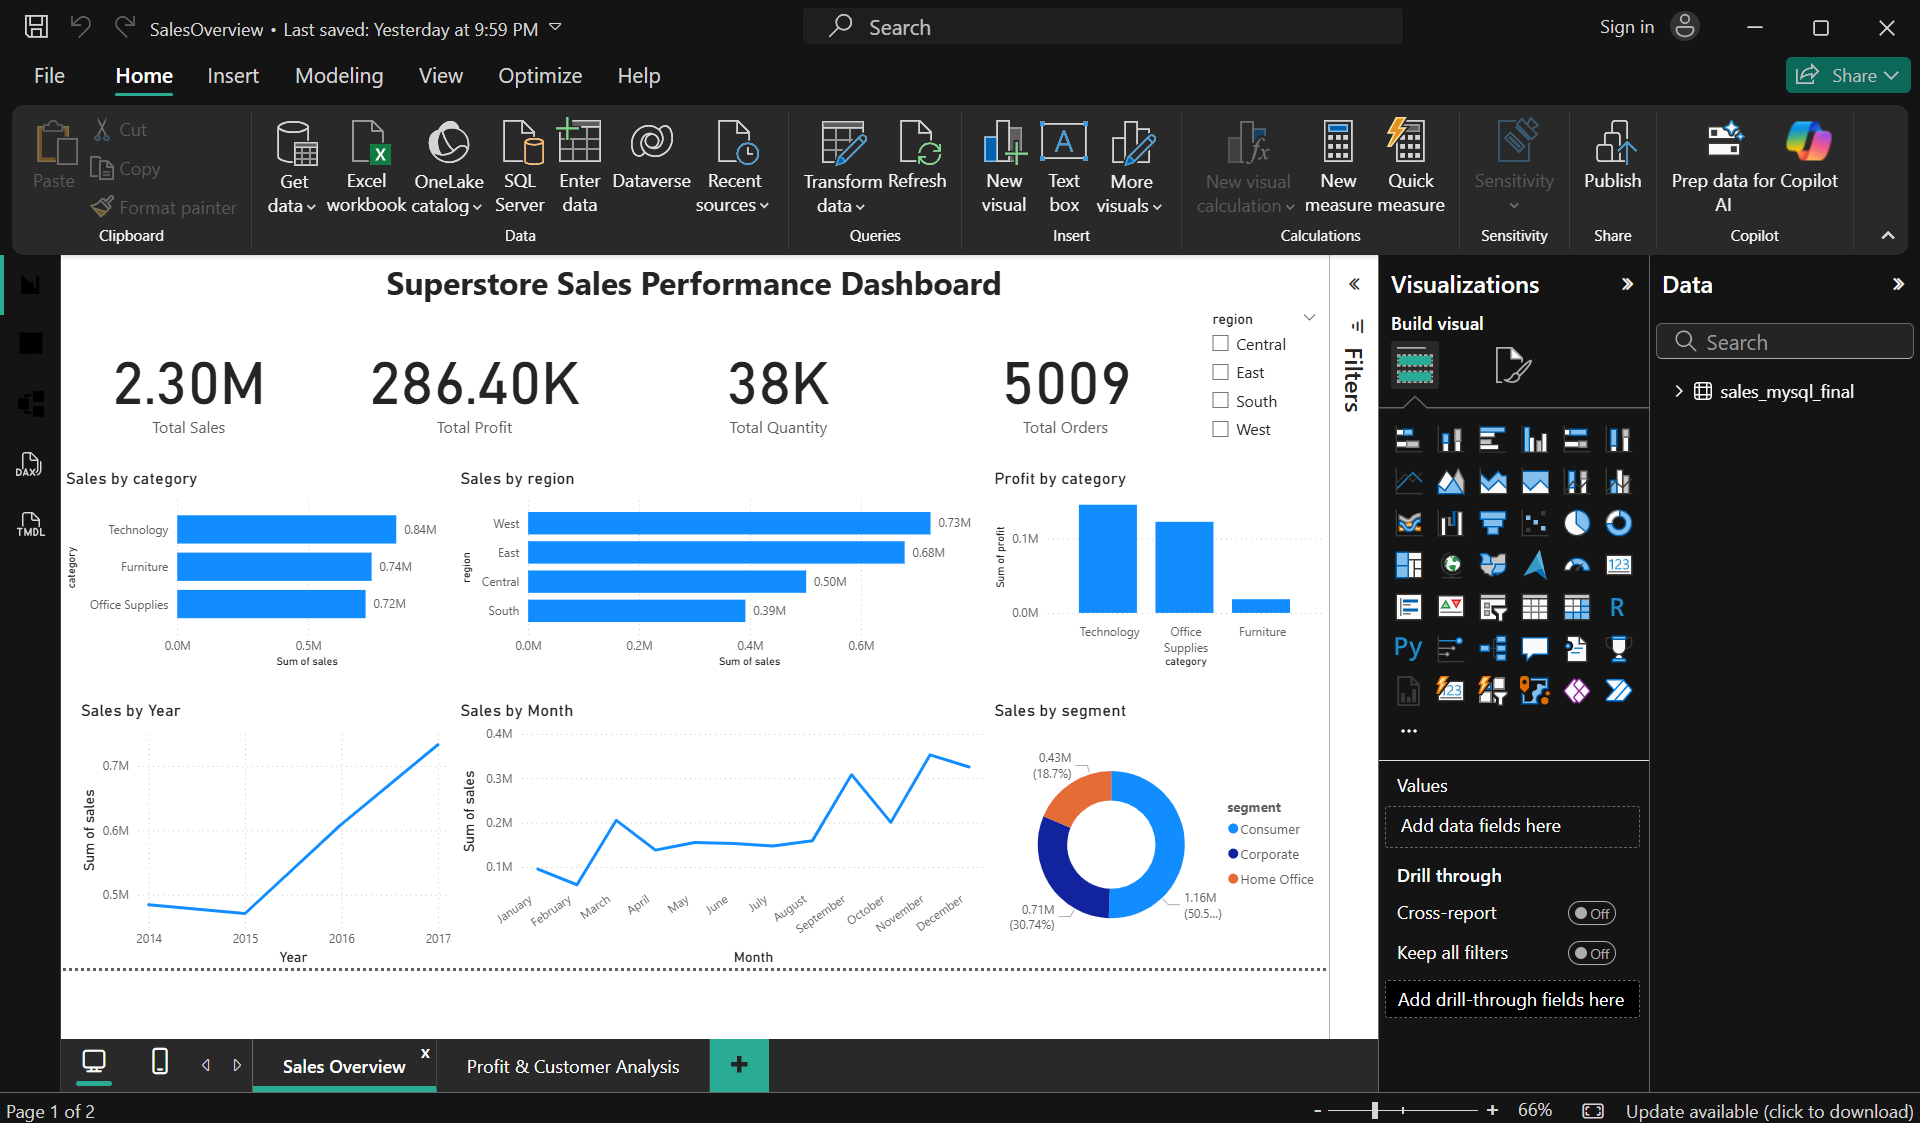

The page's visual inventory and layout, read from the dashboard file:
{"tool":"powerbi","page":{"name":"Sales Overview","canvas":[1280,720],"ordinal":0},"visuals":[{"type":"card","fields":{"Values":["Sum(sales_mysql_final.sales)"]},"box":[0,63.6,257.4,134.8],"z":0},{"type":"card","fields":{"Values":["Sum(sales_mysql_final.profit)"]},"box":[265,63.6,304.4,134.8],"z":1000},{"type":"card","fields":{"Values":["Sum(sales_mysql_final.quantity)"]},"box":[569.3,63.6,308.9,134.8],"z":2000},{"type":"card","fields":{"Values":["Count(sales_mysql_final.order_id)"]},"box":[878.2,63.6,271,134.8],"z":3000},{"type":"clusteredBarChart","title":"Sales by category","fields":{"Category":["sales_mysql_final.category"],"Y":["Sum(sales_mysql_final.sales)"]},"box":[0,215,398.2,205.9],"z":4000},{"type":"clusteredBarChart","title":"Sales by region","fields":{"Category":["sales_mysql_final.region"],"Y":["Sum(sales_mysql_final.sales)"]},"box":[398.2,215,539.1,205.9],"z":5000},{"type":"lineChart","title":"Sales by Year","fields":{"Category":["sales_mysql_final.order_date.Variation.Date Hierarchy.Year","sales_mysql_final.order_date.Variation.Date Hierarchy.Quarter","sales_mysql_final.order_date.Variation.Date Hierarchy.Month","sales_mysql_final.order_date.Variation.Date Hierarchy.Day"],"Y":["Sum(sales_mysql_final.sales)"]},"box":[15.1,449.7,383.1,271],"z":6000},{"type":"lineChart","title":"Sales by Month","fields":{"Y":["Sum(sales_mysql_final.sales)"],"Category":["sales_mysql_final.order_date.Variation.Date Hierarchy.Year","sales_mysql_final.order_date.Variation.Date Hierarchy.Quarter","sales_mysql_final.order_date.Variation.Date Hierarchy.Month","sales_mysql_final.order_date.Variation.Date Hierarchy.Day"]},"box":[398.2,449.7,539.1,271],"z":7000},{"type":"donutChart","title":"Sales by segment","fields":{"Category":["sales_mysql_final.segment"],"Y":["Sum(sales_mysql_final.sales)"]},"box":[937.3,449.7,342.2,271],"z":8000},{"type":"clusteredColumnChart","title":"Profit by category","fields":{"Category":["sales_mysql_final.category"],"Y":["Sum(sales_mysql_final.profit)"]},"box":[937.3,215,342.2,205.9],"z":9000},{"type":"textbox","box":[0,0,1278,80.3],"z":10000},{"type":"slicer","fields":{"Values":["sales_mysql_final.region"]},"box":[1150,51.8,130.1,146.9],"z":11000}]}

Visuals, with their boxes on the page's 1280x720 design canvas (x1, y1, x2, y2). These are canvas units, not pixel positions in the 1920x1123 screenshot, which may show the page scaled, cropped or inside an application window:
card - Sum(sales_mysql_final.sales): left=0, top=64, right=257, bottom=198
card - Sum(sales_mysql_final.profit): left=265, top=64, right=569, bottom=198
card - Sum(sales_mysql_final.quantity): left=569, top=64, right=878, bottom=198
card - Count(sales_mysql_final.order_id): left=878, top=64, right=1149, bottom=198
"Sales by category" clusteredBarChart: left=0, top=215, right=398, bottom=421
"Sales by region" clusteredBarChart: left=398, top=215, right=937, bottom=421
"Sales by Year" lineChart: left=15, top=450, right=398, bottom=721
"Sales by Month" lineChart: left=398, top=450, right=937, bottom=721
"Sales by segment" donutChart: left=937, top=450, right=1280, bottom=721
"Profit by category" clusteredColumnChart: left=937, top=215, right=1280, bottom=421
textbox: left=0, top=0, right=1278, bottom=80
slicer - sales_mysql_final.region: left=1150, top=52, right=1280, bottom=199
